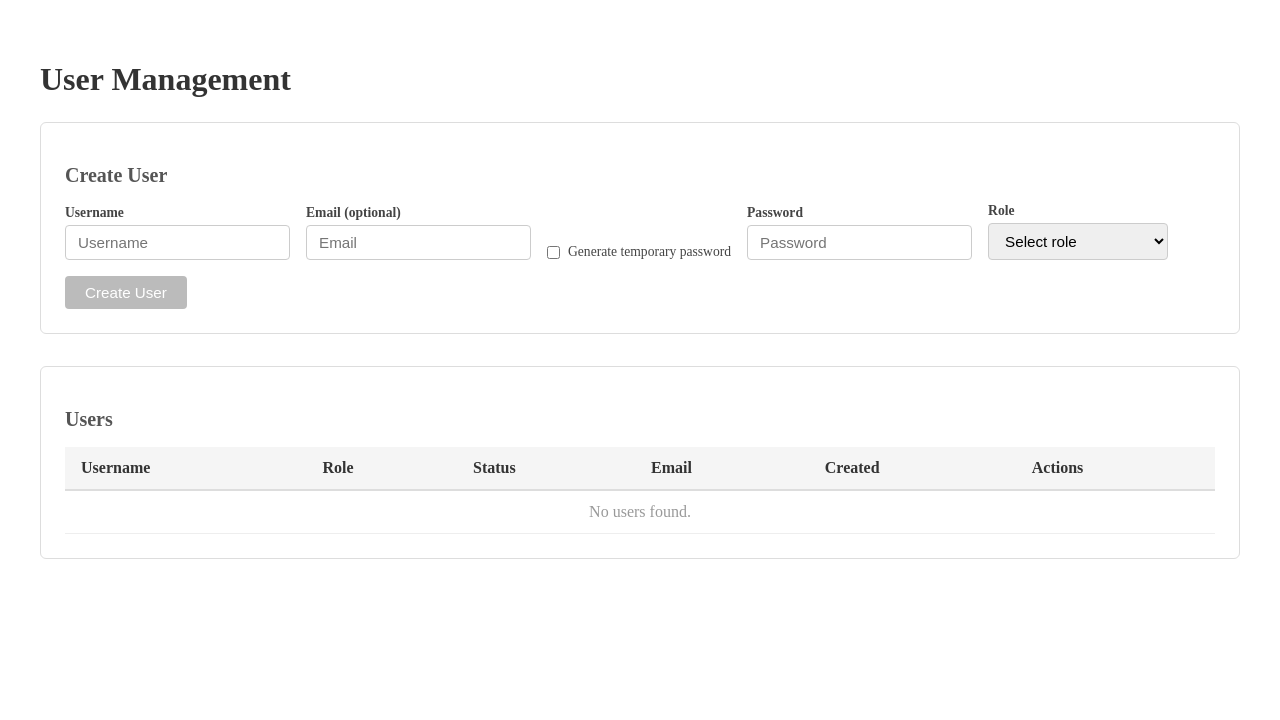
Test: UserManagementView › create user POSTs correct fields and adds user to list
The width and height of the screenshot is (1280, 720).
Step 1. Type "carol" into the field with id "create-username" → (178, 242), box 65,225 -> 290,260
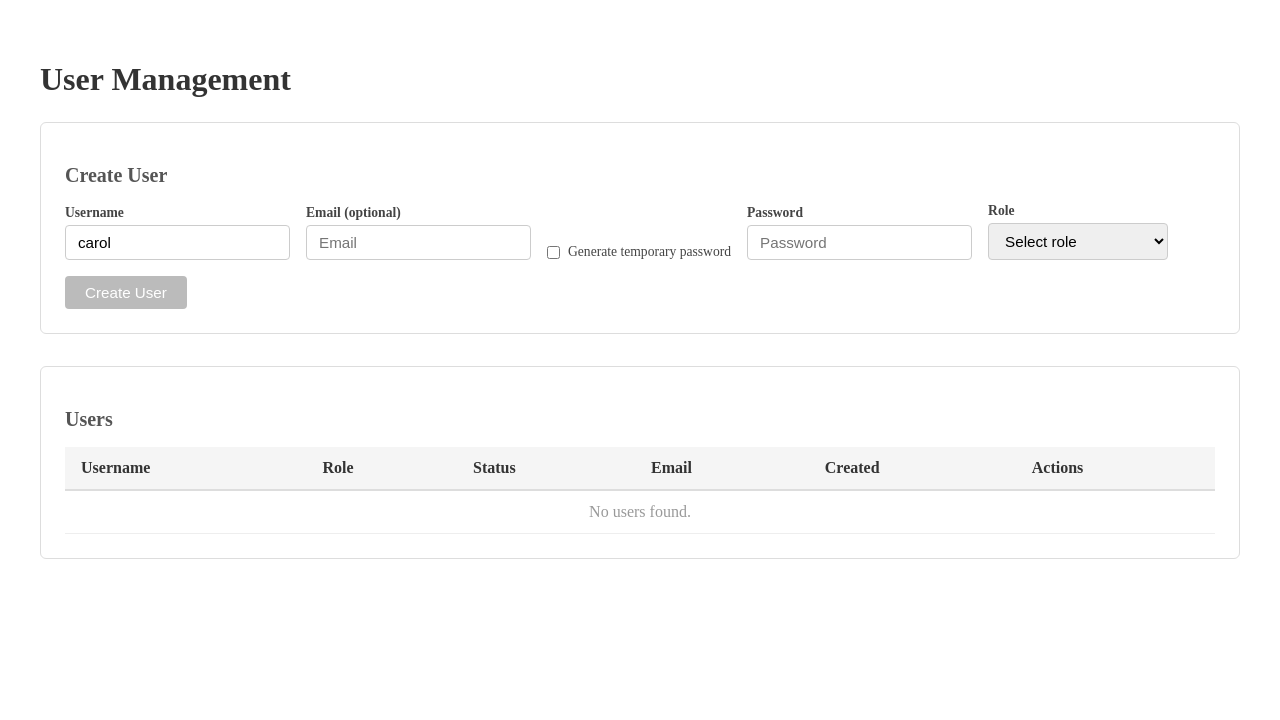
Step 2. Type "carol@example.com" into the field with id "create-email" → (418, 242), box 306,225 -> 531,260
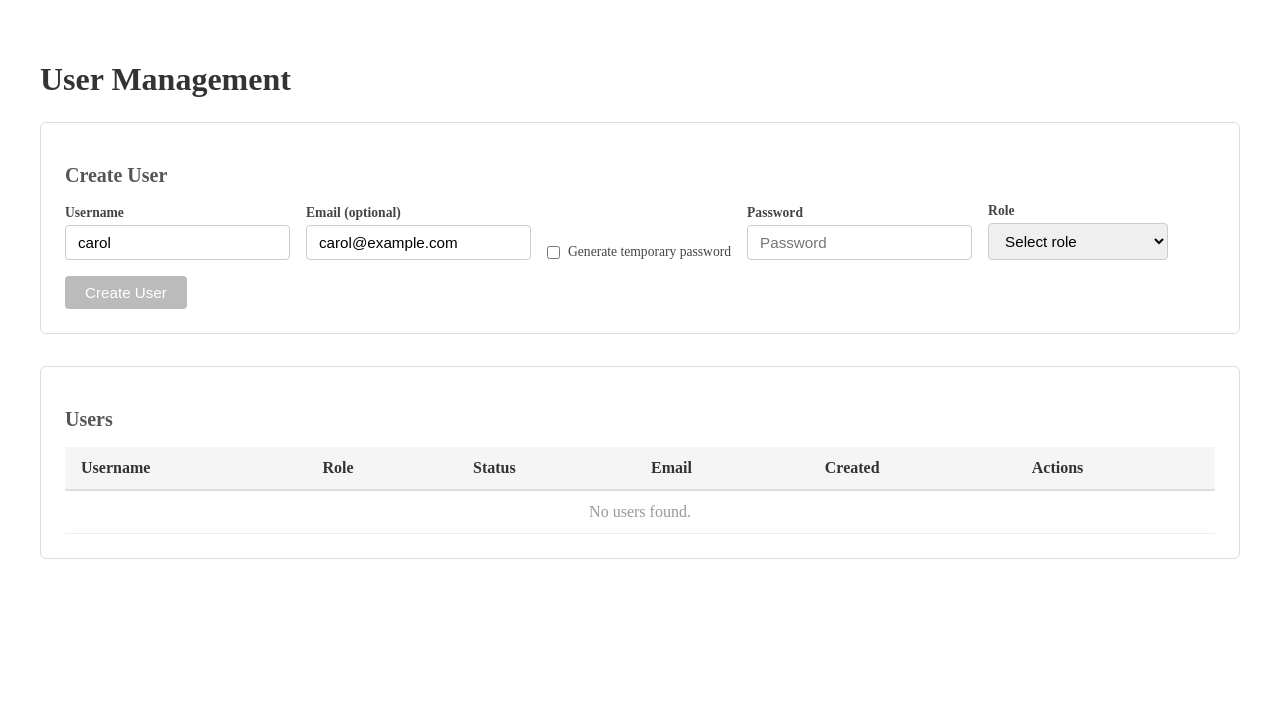
Step 3. Type "secret123" into the password field with id "create-password" → (860, 242), box 747,225 -> 972,260
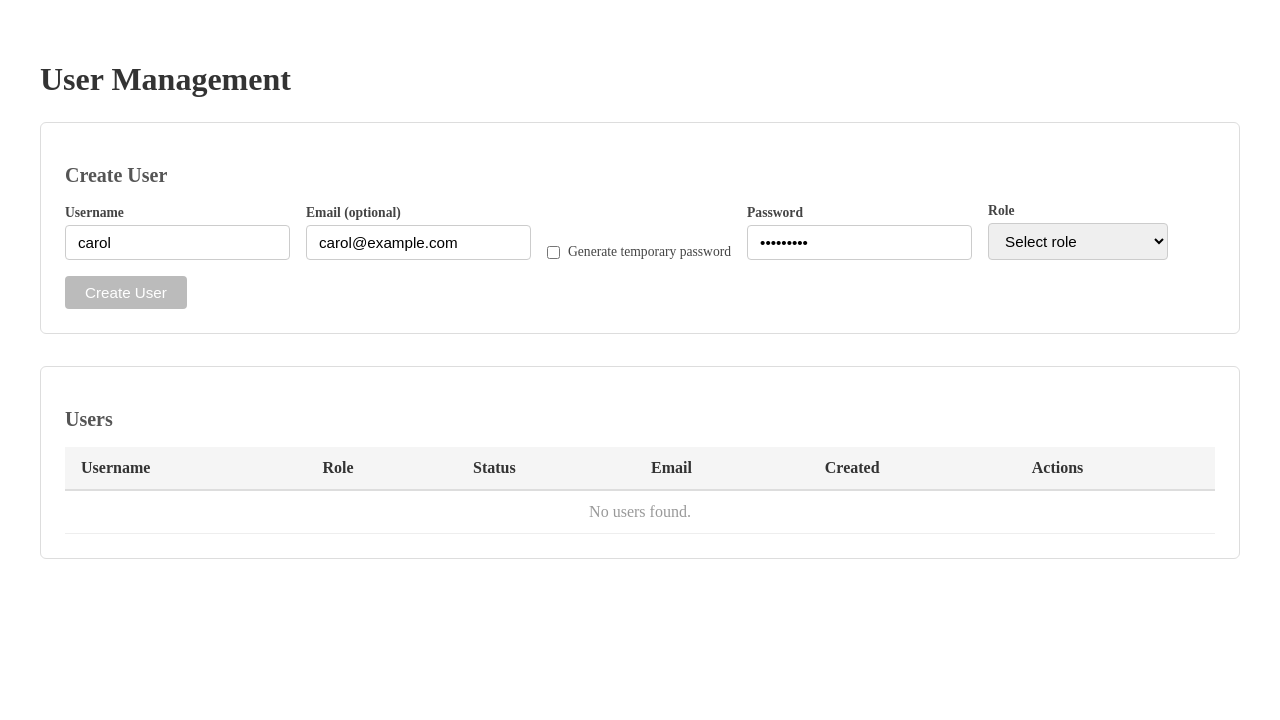
Step 4. Select "student" in the dropdown with id "create-role" → (1078, 242), box 988,223 -> 1168,260
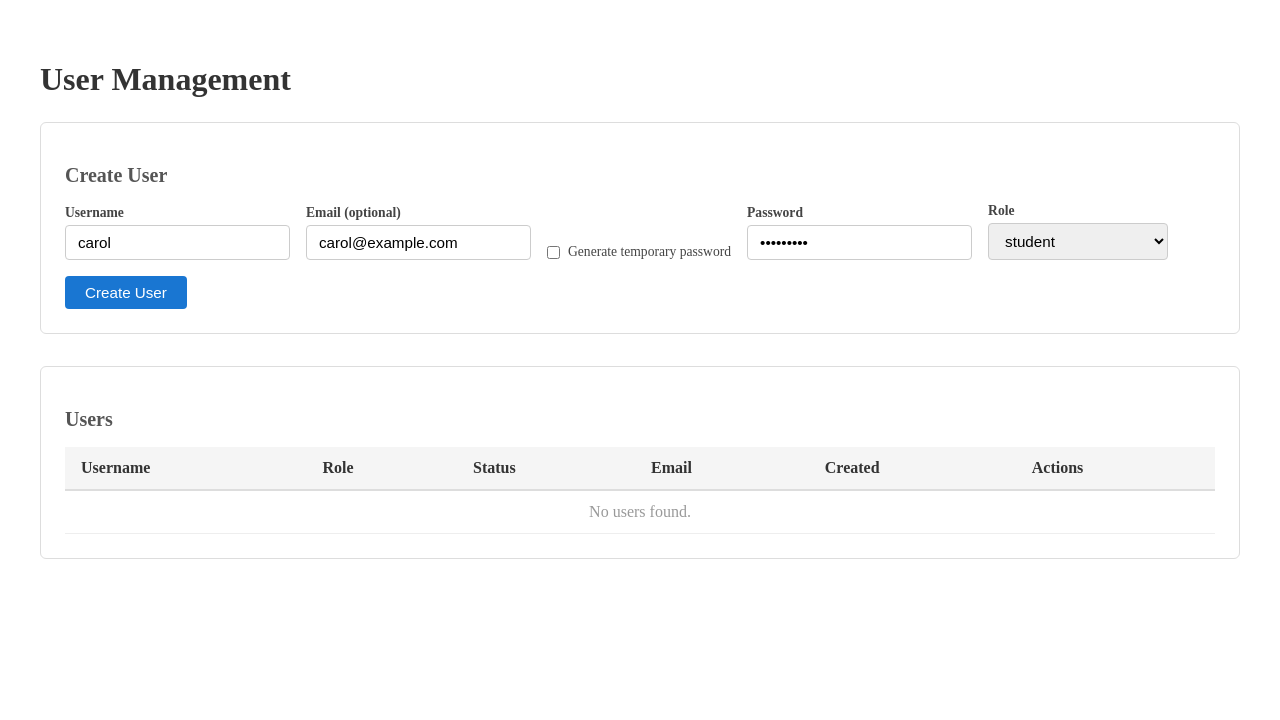
Step 5. Submit the form with class "create-form", box 65,203 -> 1215,309
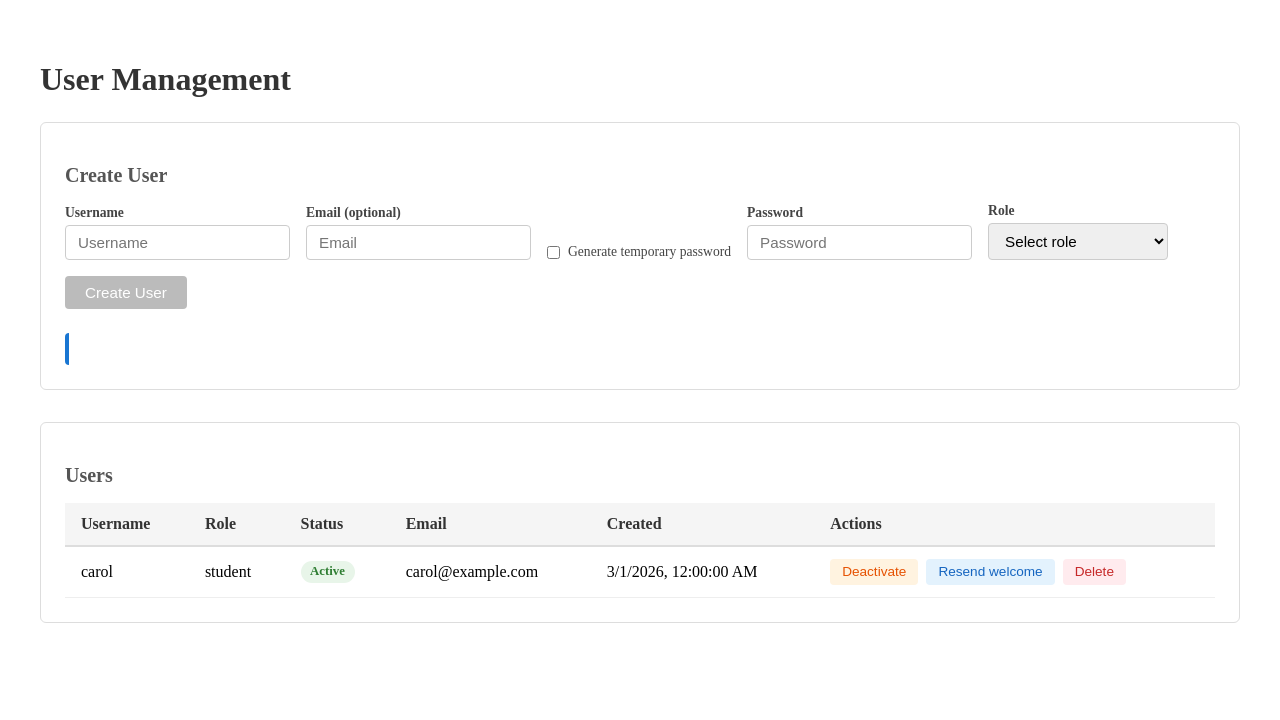
Now the number of rows with class "user-row" is 1, box 65,546 -> 1215,598
Now the row with class "user-row" shows "carol", box 81,563 -> 113,580
